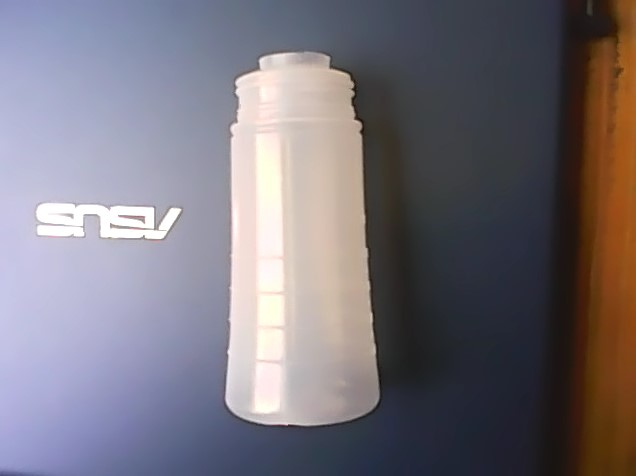Plastic: (222, 48, 384, 430)
